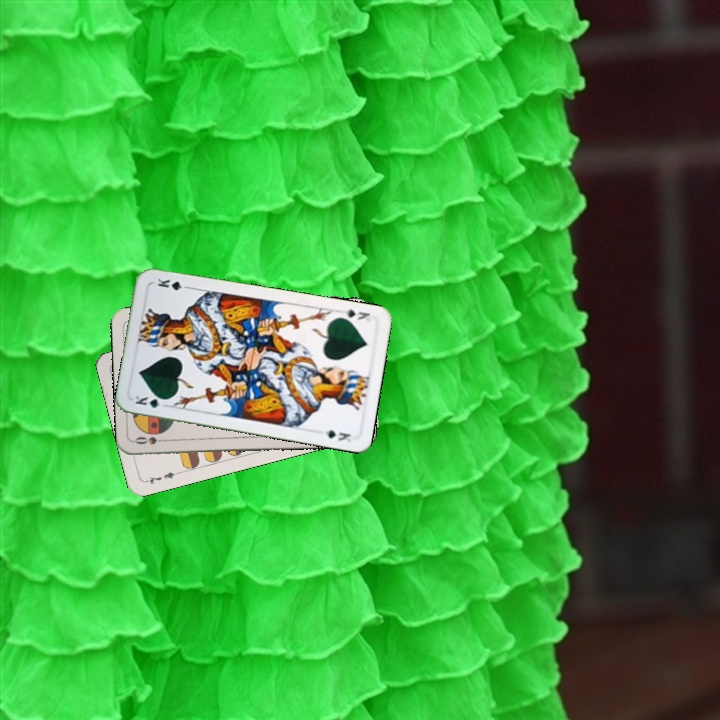E7: (141, 467, 181, 486)
GK: (131, 391, 171, 411), (335, 305, 373, 325)
SO: (131, 432, 171, 447)
